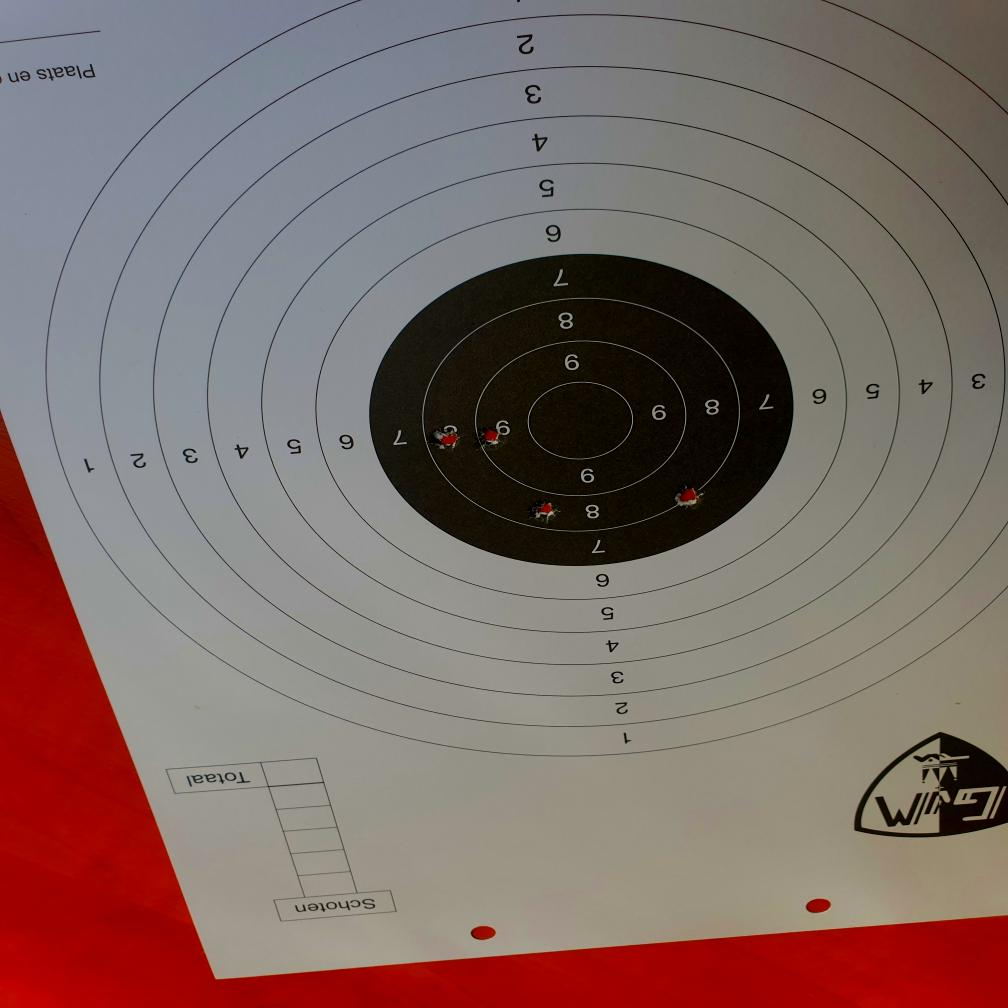8: (426, 426, 462, 453), (524, 498, 562, 523), (671, 484, 706, 510)
9: (474, 426, 505, 452)
Target: (39, 0, 1008, 761)
black_contour: (368, 254, 794, 565)
